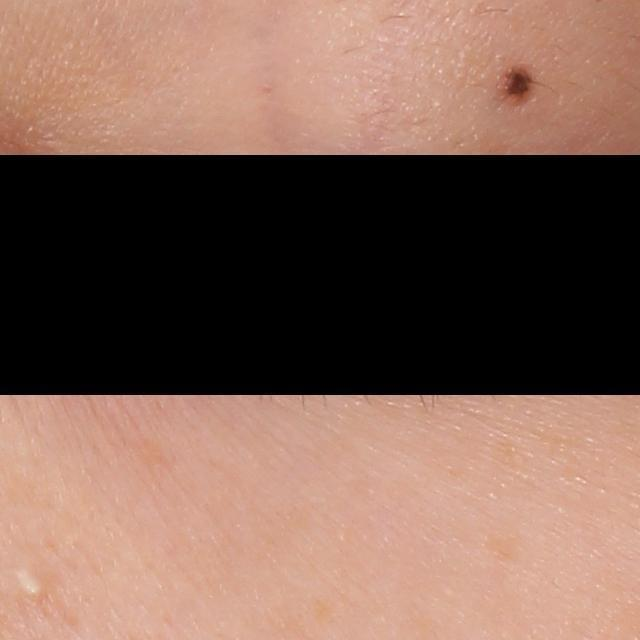comedo: (19, 569, 43, 601)
melasma: (124, 431, 178, 473), (475, 523, 523, 566)
